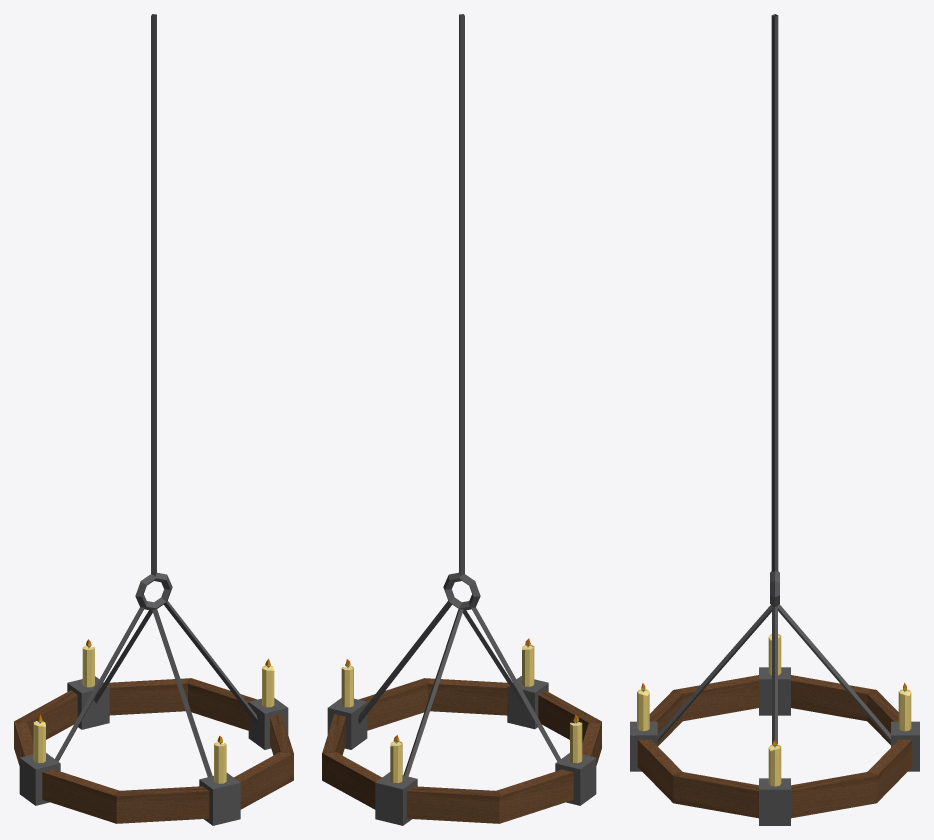
Rendered from Lamp.fbx.
The picture shows the model from 3 angles, left to right: view 1: azimuth 30°, elevation 25°; view 2: azimuth 150°, elevation 25°; view 3: azimuth 270°, elevation 25°; orthographic projection.
Parts seen in each view (by area): view 1: M_Chanelier_MedievalDiningRoom_FinalScene2:blinn2_0; view 2: M_Chanelier_MedievalDiningRoom_FinalScene2:blinn2_0; view 3: M_Chanelier_MedievalDiningRoom_FinalScene2:blinn2_0.
Boxes of the visible parts, box(x1,y1,x2,y2) form: M_Chanelier_MedievalDiningRoom_FinalScene2:blinn2_0: box(14, 14, 293, 825); M_Chanelier_MedievalDiningRoom_FinalScene2:blinn2_0: box(322, 14, 601, 825); M_Chanelier_MedievalDiningRoom_FinalScene2:blinn2_0: box(630, 14, 919, 825).
Bounding box in the file's own units: 24.97 × 71.25 × 24.96.
Materials: 2 (2 with a texture image).
